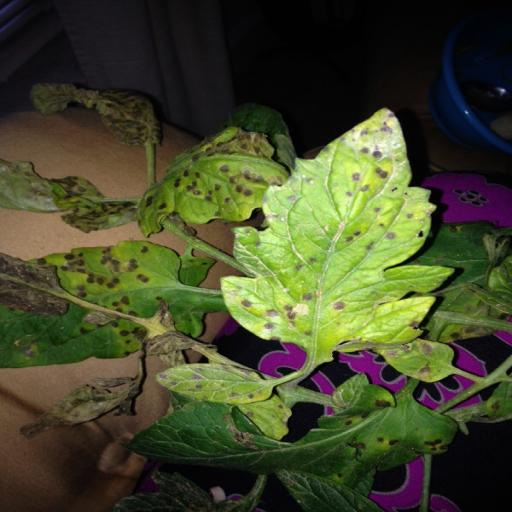Septoria: (225, 100, 453, 358), (126, 386, 484, 480), (122, 126, 304, 236), (0, 246, 150, 372), (42, 240, 192, 322), (0, 154, 142, 234), (128, 354, 284, 404), (374, 335, 474, 381)
